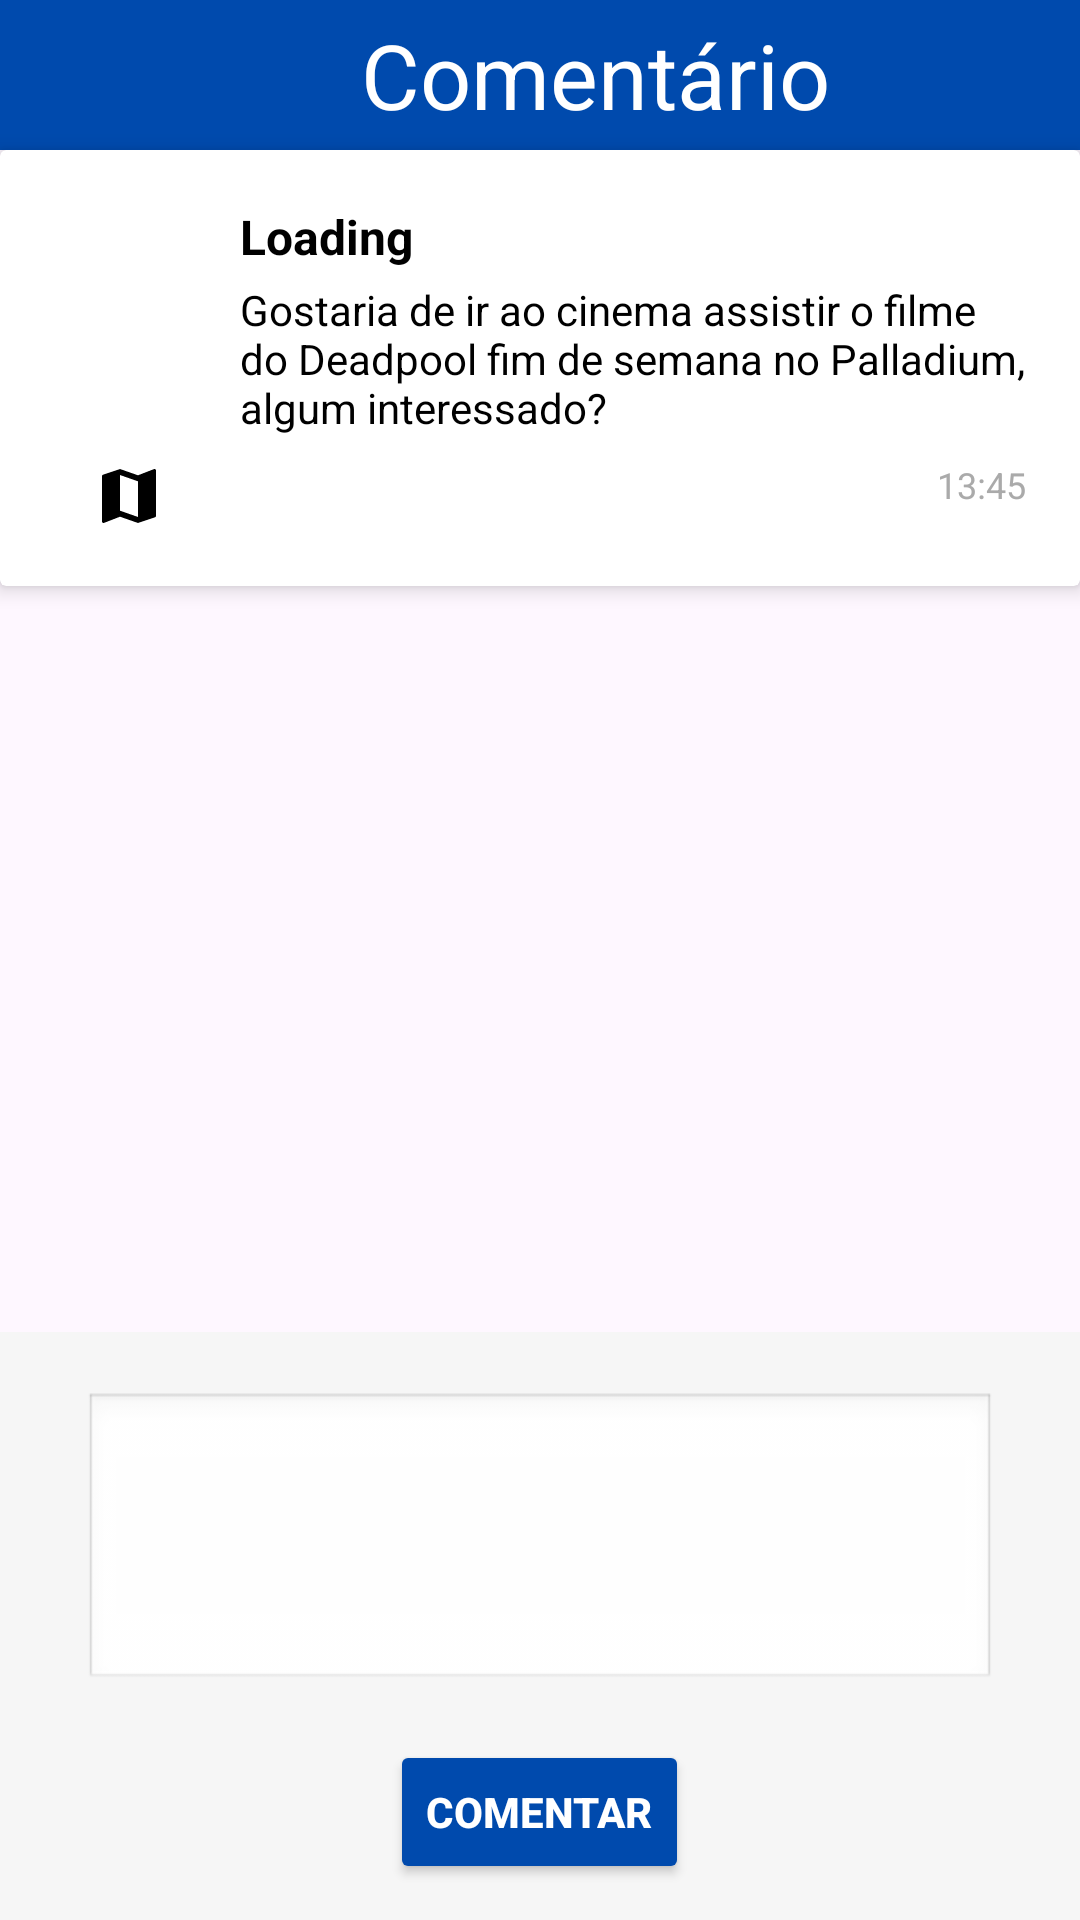

Icon click points for this 1080*1920 phone screenshot, format point (x, y):
map: point (129, 496)
